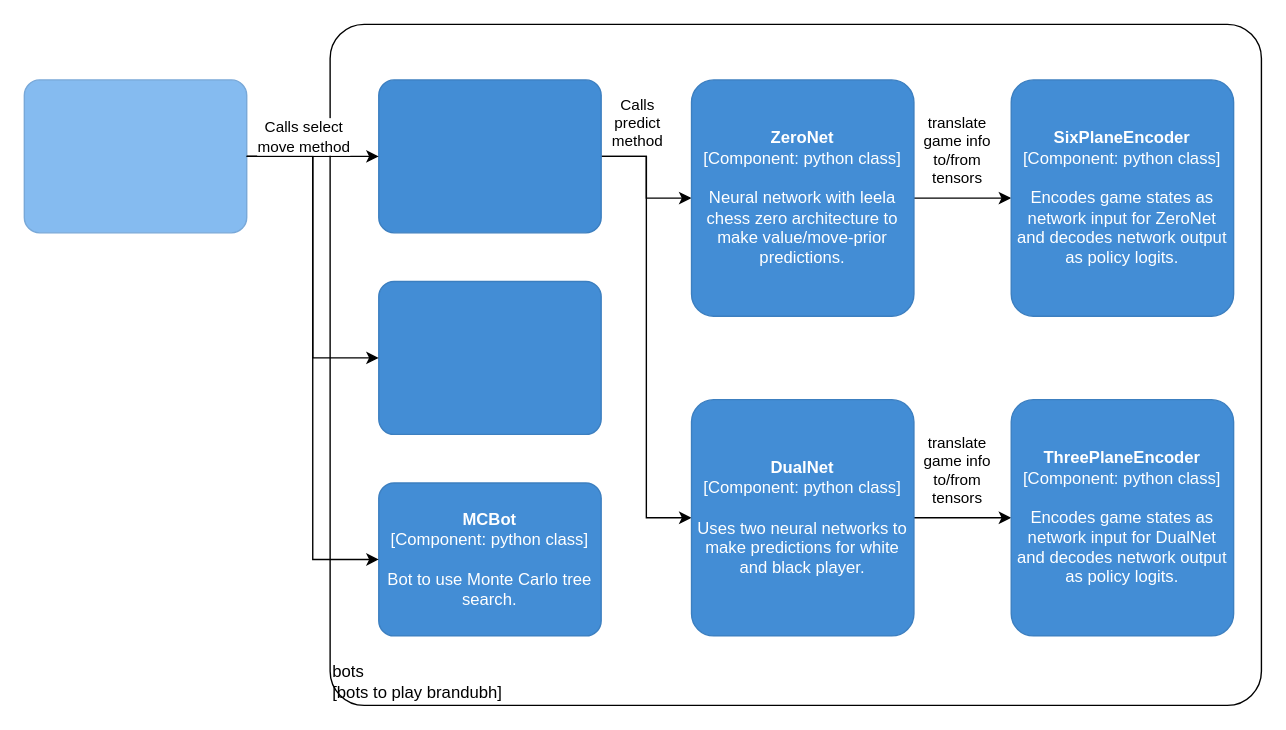
Some shapes in this 1286 by 730 pixel diagram are drawn without their labels. The shapes that lost their labels are listed below. From the top down, each one's centre as x and y in pixels, then its label:
At (x=135, y=156): "Brandubh [Container: Python classes] Creates and manages games of brandubh.".
At (x=489, y=156): "ZeroBot [Component: python class] bot to use alphazero algorithm".
At (x=489, y=357): "RandomBot [Component: python class] bot to make random moves".
